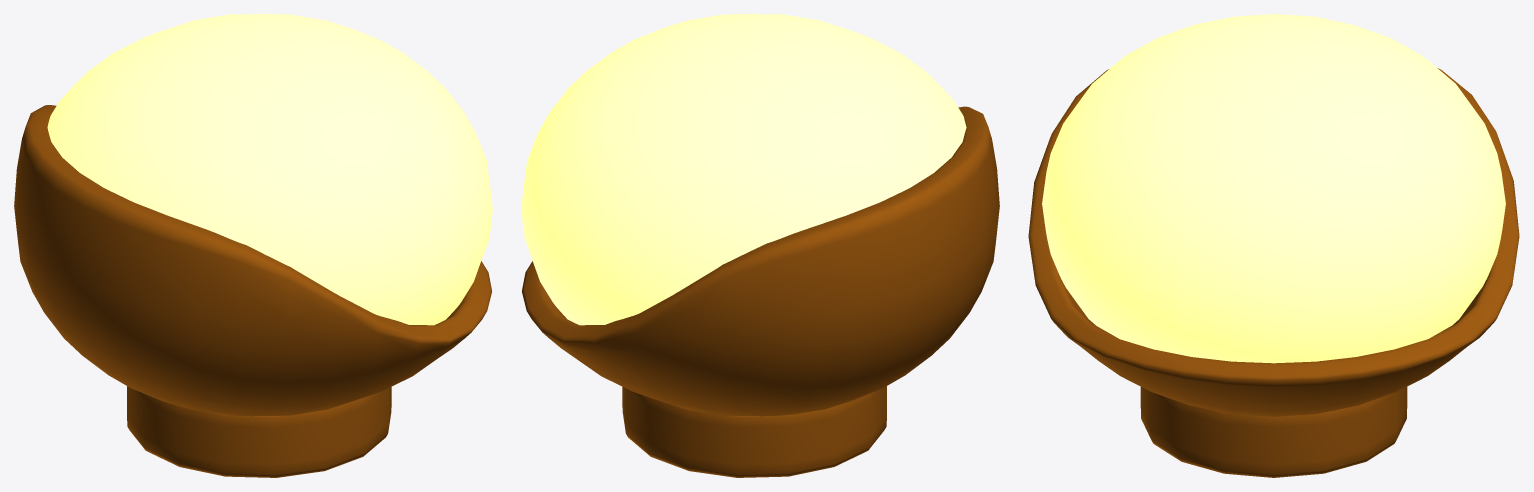
The model's file is SM_SM_DeskLamp_01.fbx.
The picture shows the model from 3 angles, left to right: view 1: azimuth 30°, elevation 25°; view 2: azimuth 150°, elevation 25°; view 3: azimuth 270°, elevation 25°; orthographic projection.
Parts seen in each view (by area): view 1: SM_DeskLamp_01; view 2: SM_DeskLamp_01; view 3: SM_DeskLamp_01.
Boxes of the visible parts, bbox=[...] form: SM_DeskLamp_01: bbox=[14, 14, 492, 477]; SM_DeskLamp_01: bbox=[521, 14, 999, 477]; SM_DeskLamp_01: bbox=[1028, 14, 1519, 477].
Size of the model in its own units: 32.22 by 28.55 by 33.27.
